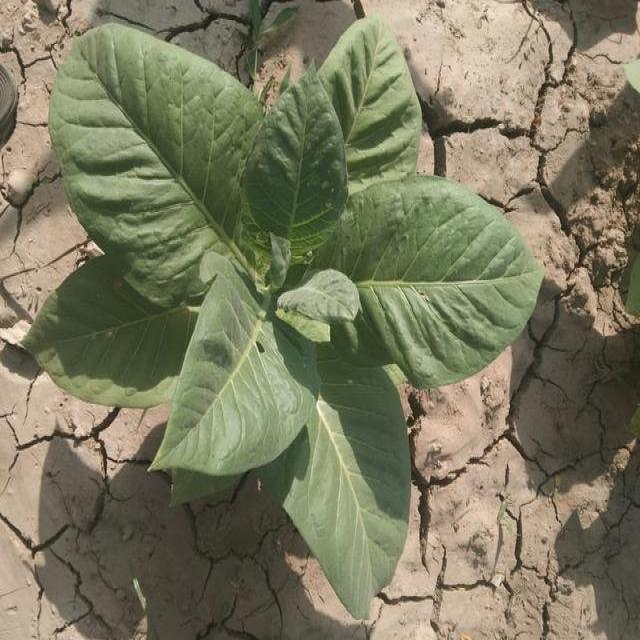crop: (33, 24, 546, 618)
